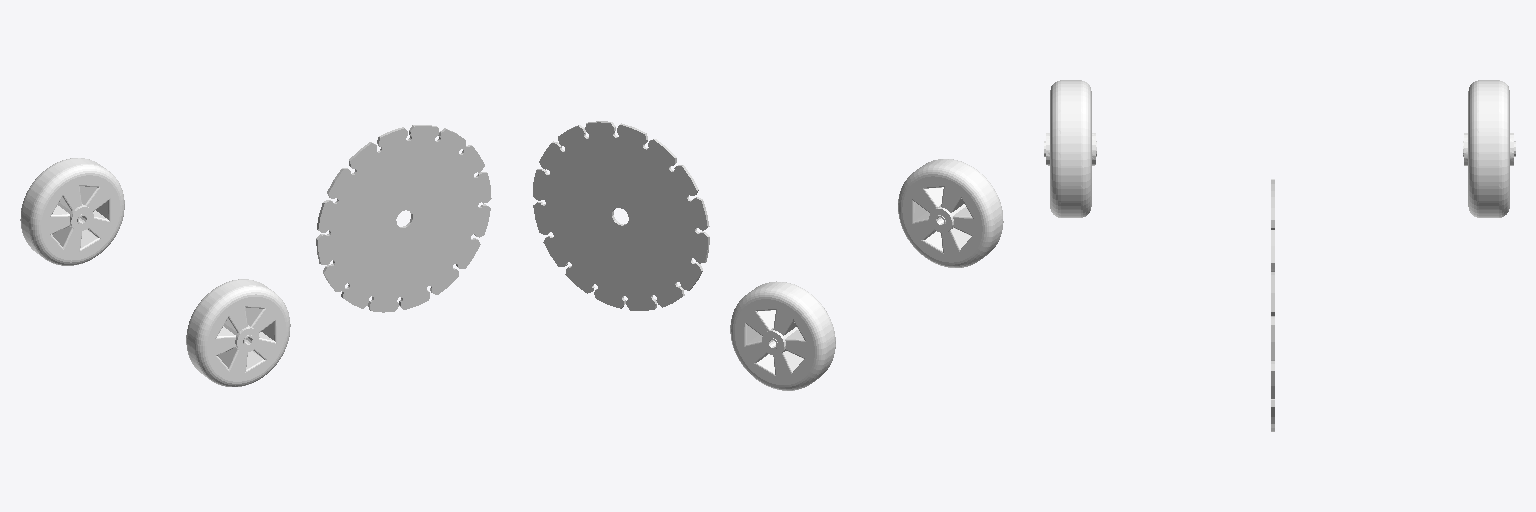
robot.urdf — robotti_8:
<?xml version="1.0" encoding="utf-8"?>
<!-- This URDF was automatically created by SolidWorks to URDF Exporter! Originally created by [author] ([email redacted]) 
     Commit Version: 1.5.1-0-g916b5db  Build Version: 1.5.7152.31018
     For more information, please see http://wiki.ros.org/sw_urdf_exporter -->
<robot
  name="robotti_8">
  <link
    name="base_link">
    <inertial>
      <origin
        xyz="-0.1748 -0.0015373 0.13638"
        rpy="0 0 0" />
      <mass
        value="6.5896" />
      <inertia
        ixx="0.013808"
        ixy="0.00028037"
        ixz="2.1258E-08"
        iyy="0.016936"
        iyz="-5.3795E-08"
        izz="0.026797" />
    </inertial>
    <visual>
      <origin
        xyz="0 0 0"
        rpy="0 0 0" />
      <geometry>
        <mesh
          filename="package://robotti_8/meshes/base_link.STL" />
      </geometry>
      <material
        name="">
        <color
          rgba="0.75294 0.75294 0.75294 1" />
      </material>
    </visual>
    <collision>
      <origin
        xyz="0 0 0"
        rpy="0 0 0" />
      <geometry>
        <mesh
          filename="package://robotti_8/meshes/base_hitbox.STL" />
      </geometry>
    </collision>
  </link>
  <link
    name="r_wheel_link">
    <inertial>
      <origin
        xyz="-9.9869E-10 -0.01875 -8.3389E-12"
        rpy="0 0 0" />
      <mass
        value="0.39239" />
      <inertia
        ixx="0.00044476"
        ixy="-1.5893E-14"
        ixz="1.817E-13"
        iyy="0.00079969"
        iyz="-2.6126E-13"
        izz="0.00044476" />
    </inertial>
    <visual>
      <origin
        xyz="0 0 0"
        rpy="0 0 0" />
      <geometry>
        <mesh
          filename="package://robotti_8/meshes/r_wheel_link.STL" />
      </geometry>
      <material
        name="">
        <color
          rgba="1 1 1 1" />
      </material>
    </visual>
    <collision>
      <origin
        xyz="0 0 0"
        rpy="0 0 0" />
      <geometry>
        <mesh
          filename="package://robotti_8/meshes/r_wheel_link.STL" />
      </geometry>
    </collision>
  </link>
  <joint
    name="r_wheel_joint"
    type="continuous">
    <origin
      xyz="-0.35891 -0.17621 0.14358"
      rpy="0 0 0" />
    <parent
      link="base_link" />
    <child
      link="r_wheel_link" />
    <axis
      xyz="0 -1 0" />
  </joint>
  <link
    name="l_wheel_link">
    <inertial>
      <origin
        xyz="-9.3811E-10 0.01875 -2.7156E-11"
        rpy="0 0 0" />
      <mass
        value="0.39239" />
      <inertia
        ixx="0.00044476"
        ixy="6.7332E-15"
        ixz="1.9888E-13"
        iyy="0.00079969"
        iyz="-1.8841E-13"
        izz="0.00044476" />
    </inertial>
    <visual>
      <origin
        xyz="0 0 0"
        rpy="0 0 0" />
      <geometry>
        <mesh
          filename="package://robotti_8/meshes/l_wheel_link.STL" />
      </geometry>
      <material
        name="">
        <color
          rgba="1 1 1 1" />
      </material>
    </visual>
    <collision>
      <origin
        xyz="0 0 0"
        rpy="0 0 0" />
      <geometry>
        <mesh
          filename="package://robotti_8/meshes/l_wheel_link.STL" />
      </geometry>
    </collision>
  </link>
  <joint
    name="l_wheel_joint"
    type="continuous">
    <origin
      xyz="-0.35891 0.16621 0.14358"
      rpy="0 0 0" />
    <parent
      link="base_link" />
    <child
      link="l_wheel_link" />
    <axis
      xyz="0 -1 0" />
  </joint>
  <link
    name="weapon_link">
    <inertial>
      <origin
        xyz="-5.5511E-17 -0.002 -1.9949E-17"
        rpy="0 0 0" />
      <mass
        value="1.2336" />
      <inertia
        ixx="0.0039975"
        ixy="-1.7007E-20"
        ixz="-5.4842E-20"
        iyy="0.0079916"
        iyz="7.323E-21"
        izz="0.0039975" />
    </inertial>
    <visual>
      <origin
        xyz="0 0 0"
        rpy="0 0 0" />
      <geometry>
        <mesh
          filename="package://robotti_8/meshes/weapon_link.STL" />
      </geometry>
      <material
        name="">
        <color
          rgba="0.89804 0.89804 0.89804 1" />
      </material>
    </visual>
    <collision>
      <origin
        xyz="0 0 0"
        rpy="0 0 0" />
      <geometry>
        <mesh
          filename="package://robotti_8/meshes/weapon_hitbox.STL" />
      </geometry>
    </collision>
  </link>
  <joint
    name="weapon_joint"
    type="continuous">
    <origin
      xyz="-0.033983 -0.0093 0.13862"
      rpy="0 0 0" />
    <parent
      link="base_link" />
    <child
      link="weapon_link" />
    <axis
      xyz="0 -1 0" />
  </joint>
</robot>

--- Facts derived from the render (not from the file) ---
Views: 3 orthographic renders of the robot side by side, from view 1: azimuth 30°, elevation 25°; view 2: azimuth 150°, elevation 25°; view 3: azimuth 270°, elevation 25°.
Robot: robotti_8 — 4 links, 3 joints (3 continuous); root link base_link; default pose: every joint at zero.
Links seen in each view (by area): view 1: weapon_link, l_wheel_link, r_wheel_link; view 2: weapon_link, r_wheel_link, l_wheel_link; view 3: l_wheel_link, r_wheel_link, weapon_link.
Link boxes in pixels (x1,y1,x2,y2): weapon_link: (316, 125, 491, 312); l_wheel_link: (20, 158, 124, 265); r_wheel_link: (186, 279, 290, 386); weapon_link: (533, 121, 709, 310); r_wheel_link: (898, 159, 1003, 267); l_wheel_link: (730, 281, 835, 390); l_wheel_link: (1463, 80, 1515, 217); r_wheel_link: (1044, 80, 1096, 217); weapon_link: (1271, 179, 1274, 431).
Size in the robot's own frame: 0.5024 by 0.4279 by 0.23 metres.
3 mesh visuals loaded from 4 distinct referenced files (3 binary STL); not drawn: 1 (reference not matched to a file when rendering).
